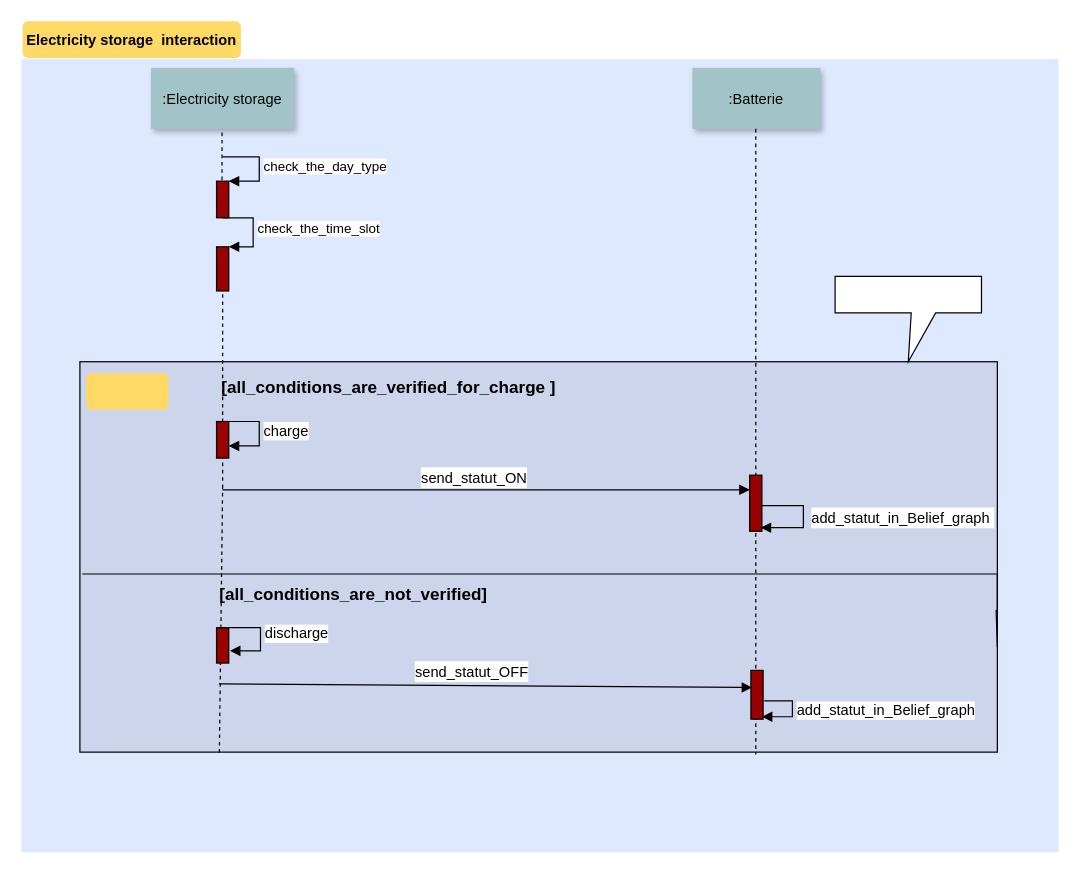
This 1078x872 diagram has some shape labels left out. The shapes that lost their labels are listed below. From the top down, each one's centre as x and y in pixels, then its label:
At point 907,318: "send statut with the timeStamp".
At point 126,391: "alt".
